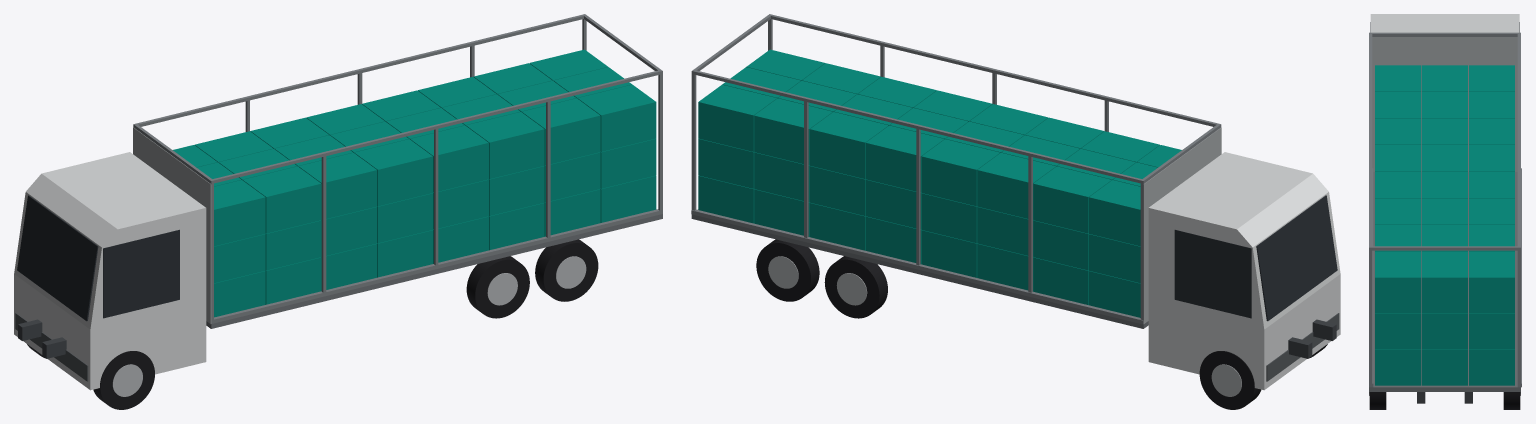
The model's file is truck-PN11.glb.
3 renders of one model, left to right at view 1: azimuth 30°, elevation 25°; view 2: azimuth 150°, elevation 25°; view 3: azimuth 270°, elevation 25°, orthographic. The views are drawn at different scales.
Parts seen in each view (by area): view 1: cabine, part23, janela, part52, part106, part88, part70, part97, part61, part79, part15, frente (+45 smaller); view 2: cabine, part23, janela, part72, part108, part54, part90, part81, part63, part99, part17, frente (+45 smaller); view 3: frente, part106, part107, part108, cabine, piso, part100, part103, part101, part102, part104, part105 (+31 smaller).
Boxes of the visible parts, x1,y1,x2,y2 form: cabine: [14, 152, 206, 390]; part23: [17, 195, 98, 321]; janela: [103, 229, 179, 318]; part52: [242, 166, 321, 233]; part106: [577, 84, 656, 151]; part88: [466, 112, 544, 179]; part70: [354, 139, 432, 206]; part97: [522, 98, 600, 165]; part61: [298, 153, 377, 218]; part79: [410, 125, 488, 192]; part15: [211, 209, 662, 323]; frente: [133, 127, 211, 323]; cabine: [1148, 152, 1340, 390]; part23: [1256, 195, 1337, 321]; janela: [1174, 229, 1251, 318]; part72: [921, 139, 999, 206]; part108: [698, 84, 777, 151]; part54: [1033, 166, 1111, 233]; part90: [810, 112, 888, 178]; part81: [865, 125, 944, 192]; part63: [977, 153, 1056, 219]; part99: [754, 98, 832, 165]; part17: [691, 209, 1143, 324]; frente: [1143, 127, 1221, 323]; frente: [1372, 37, 1517, 171]; part106: [1375, 251, 1421, 313]; part107: [1422, 251, 1467, 313]; part108: [1469, 251, 1514, 313]; cabine: [1370, 14, 1519, 32]; piso: [1369, 172, 1520, 391]; part100: [1375, 349, 1421, 385]; part103: [1375, 313, 1421, 349]; part101: [1422, 349, 1467, 385]; part102: [1469, 349, 1514, 385]; part104: [1422, 313, 1467, 349]; part105: [1469, 313, 1514, 349].
Size of the model in its own units: 11.24 by 3.78 by 2.58.
